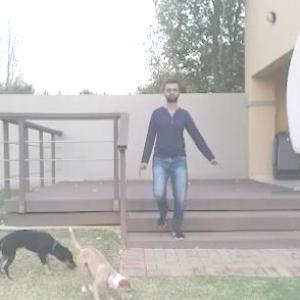land: (134, 86, 213, 234)
